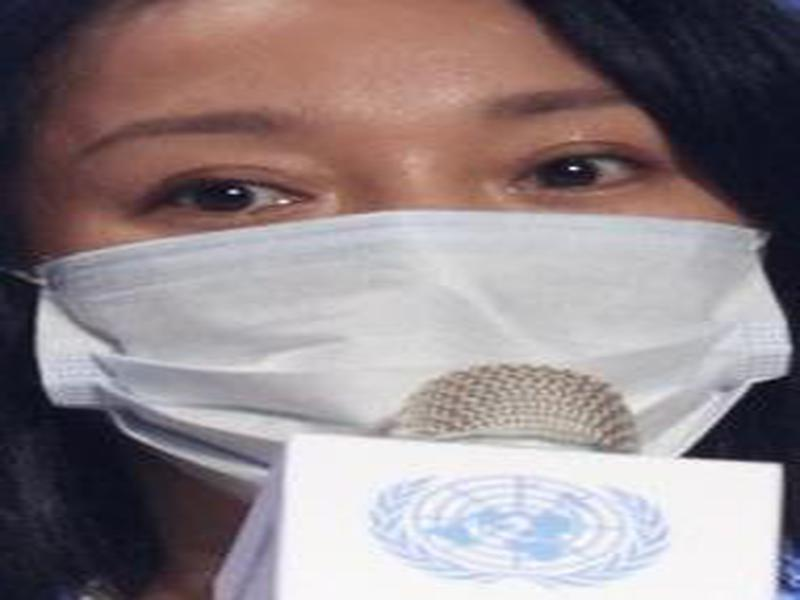with_mask: (16, 1, 800, 501)
